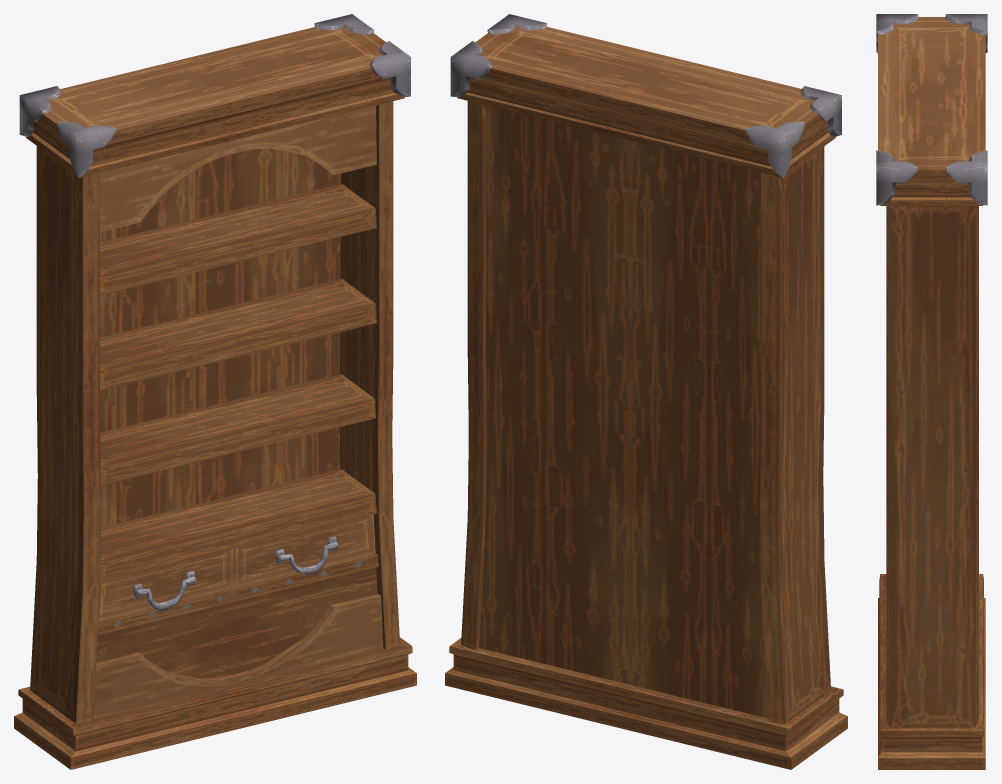
The picture shows the model from 3 angles, left to right: view 1: azimuth 30°, elevation 25°; view 2: azimuth 150°, elevation 25°; view 3: azimuth 270°, elevation 25°; orthographic projection. The views are drawn at different scales.
Visible parts, largest first — view 1: cb9df46869a74c2b21acdc562e58e1fd0bcaa177f7275e87e50e477c73f4; view 2: cb9df46869a74c2b21acdc562e58e1fd0bcaa177f7275e87e50e477c73f4; view 3: cb9df46869a74c2b21acdc562e58e1fd0bcaa177f7275e87e50e477c73f4.
Part boxes in pixels (<box>): cb9df46869a74c2b21acdc562e58e1fd0bcaa177f7275e87e50e477c73f4: <box>14,14,416,769</box>; cb9df46869a74c2b21acdc562e58e1fd0bcaa177f7275e87e50e477c73f4: <box>445,14,847,769</box>; cb9df46869a74c2b21acdc562e58e1fd0bcaa177f7275e87e50e477c73f4: <box>876,14,987,769</box>.
Size of the model in its own units: 1.46 by 2.54 by 0.429.
2 materials, 2 textured.
